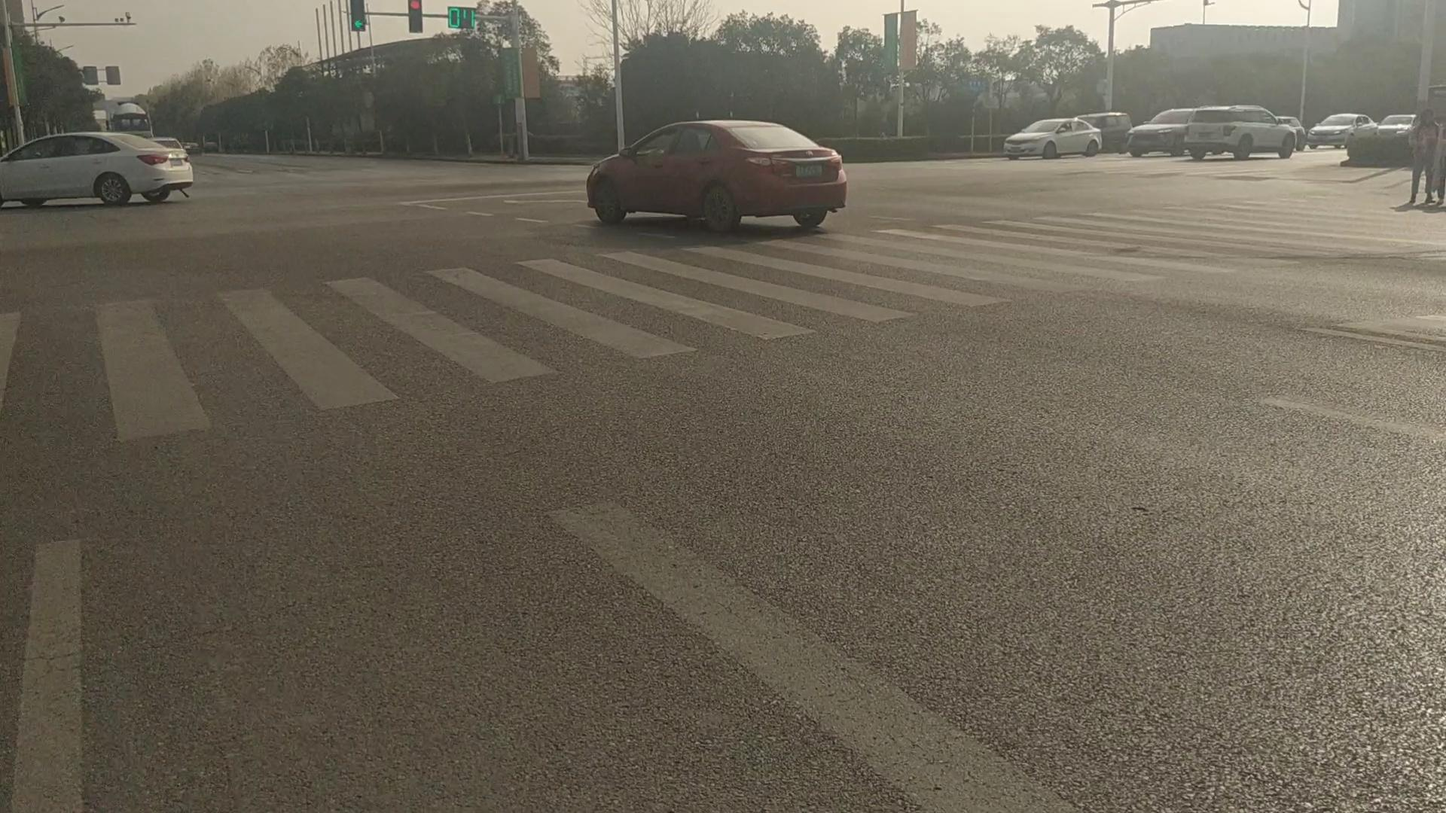car: (585, 117, 849, 233), (1, 132, 191, 209), (1182, 105, 1299, 160), (1005, 117, 1104, 160), (1127, 107, 1197, 159), (1306, 112, 1376, 148), (1075, 111, 1132, 154), (1274, 115, 1306, 147), (1378, 113, 1417, 139)
